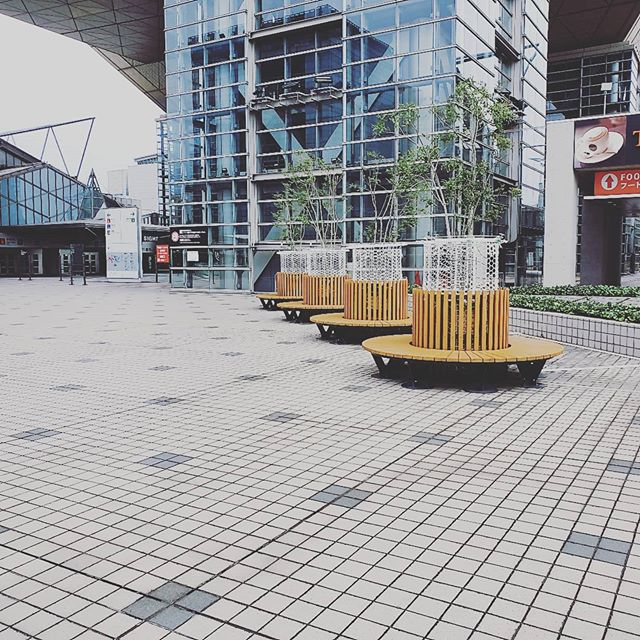bench: (364, 306, 570, 402), (306, 294, 434, 356), (269, 283, 368, 328), (253, 282, 323, 315)
building: (168, 1, 528, 282), (1, 147, 130, 291)
sidewalk: (1, 292, 632, 630)
